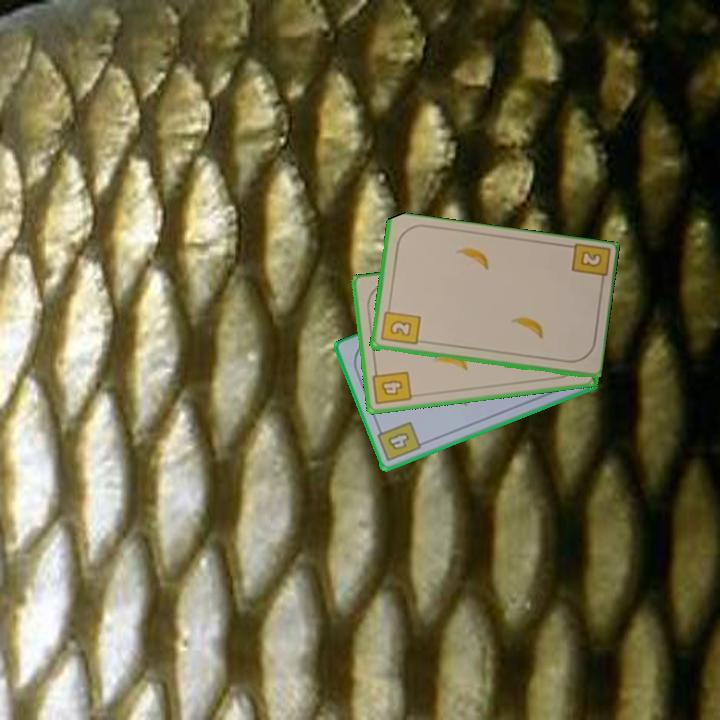2b: (377, 302, 423, 348), (567, 241, 610, 290)
4b: (373, 418, 424, 465), (369, 364, 414, 408)
